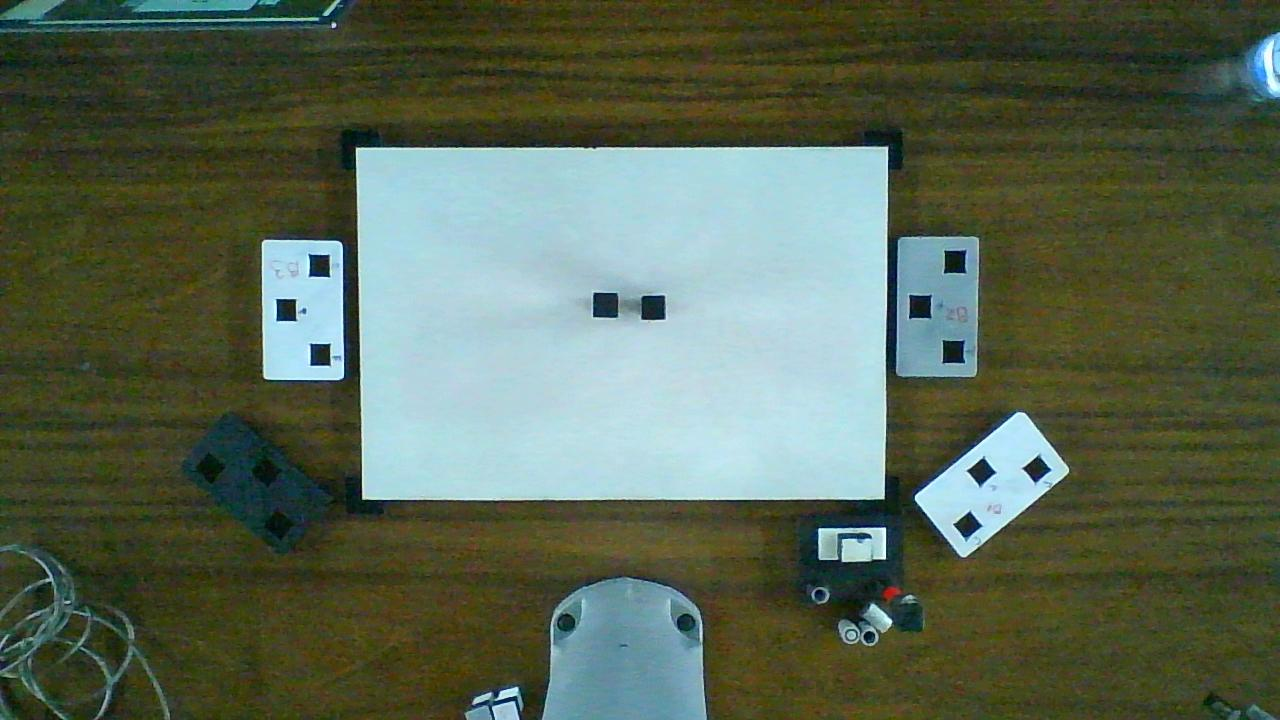peca_preta: (594, 293, 616, 316), (643, 295, 664, 319)
